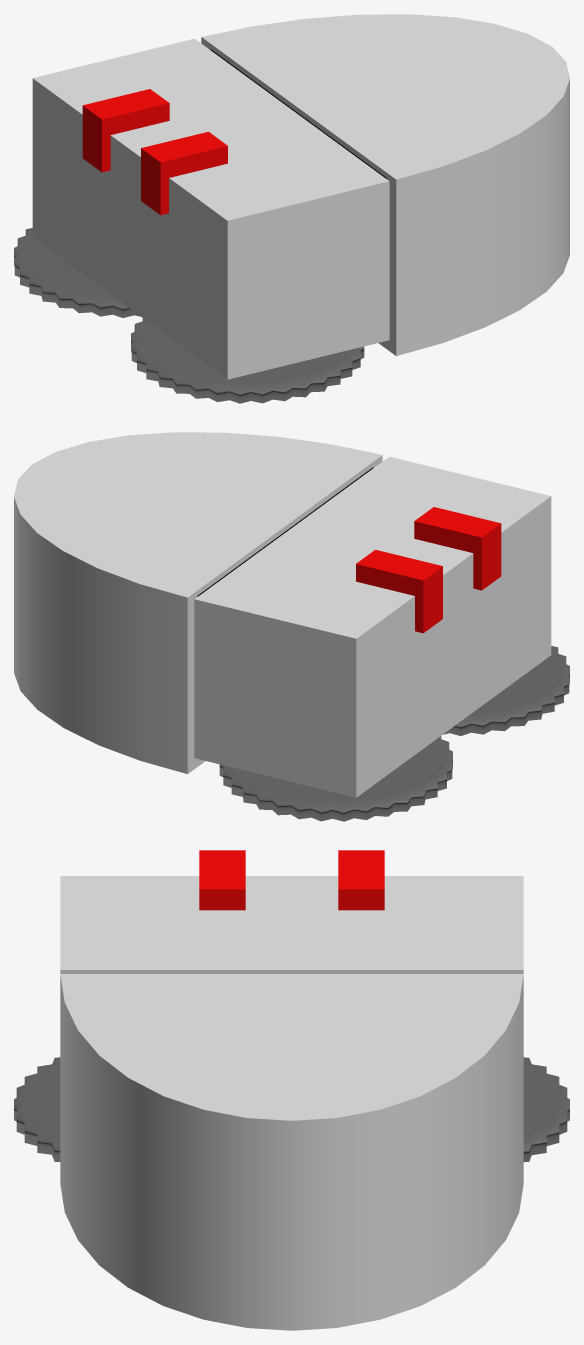
The model's file is BigRoomba.fbx.
3 renders of one model, top to bottom at view 1: azimuth 30°, elevation 25°; view 2: azimuth 150°, elevation 25°; view 3: azimuth 270°, elevation 25°, orthographic. The views are drawn at different scales.
Visible parts, largest first — view 1: Cube.001, 円柱, 円柱.001, 円柱.002, 立方体.001, 立方体; view 2: Cube.001, 円柱, 円柱.002, 円柱.001, 立方体, 立方体.001; view 3: 円柱, Cube.001, 円柱.002, 円柱.001, 立方体, 立方体.001.
Boxes of the visible parts, box(x1,y1,x2,y2) form: Cube.001: box(32, 38, 389, 379); 円柱: box(201, 14, 569, 356); 円柱.001: box(131, 318, 364, 403); 円柱.002: box(14, 228, 141, 317); 立方体.001: box(82, 89, 169, 172); 立方体: box(141, 131, 227, 215); Cube.001: box(194, 456, 551, 797); 円柱: box(14, 432, 382, 774); 円柱.002: box(219, 736, 452, 821); 円柱.001: box(443, 646, 569, 735); 立方体: box(414, 507, 501, 590); 立方体.001: box(356, 549, 442, 633); 円柱: box(60, 974, 523, 1330); Cube.001: box(60, 876, 523, 973); 円柱.002: box(523, 1057, 569, 1162); 円柱.001: box(14, 1057, 60, 1161); 立方体: box(199, 850, 245, 910); 立方体.001: box(338, 850, 384, 910).
Bounding box in the file's own units: 2.75 × 1.1 × 2.4.
